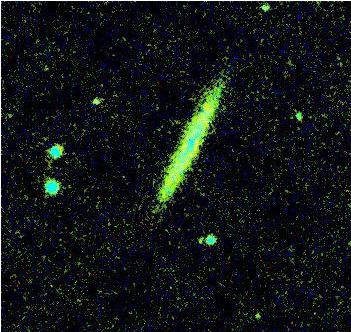star: (185, 229, 215, 259)
